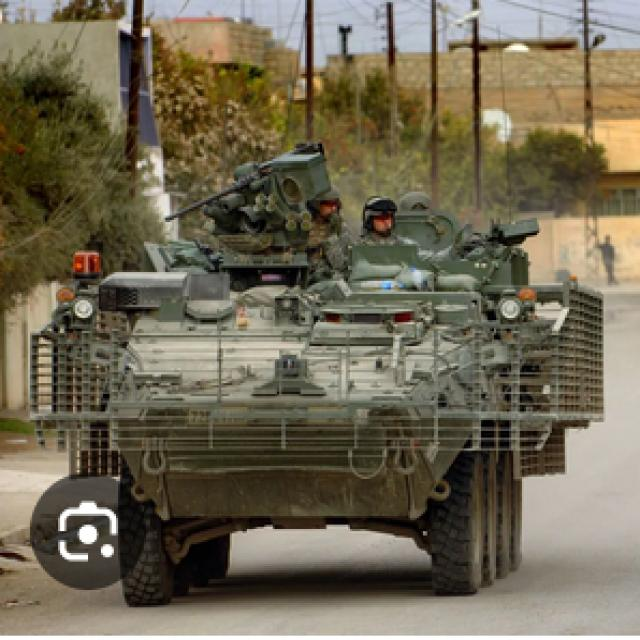MIL_APC: (0, 169, 628, 609)
